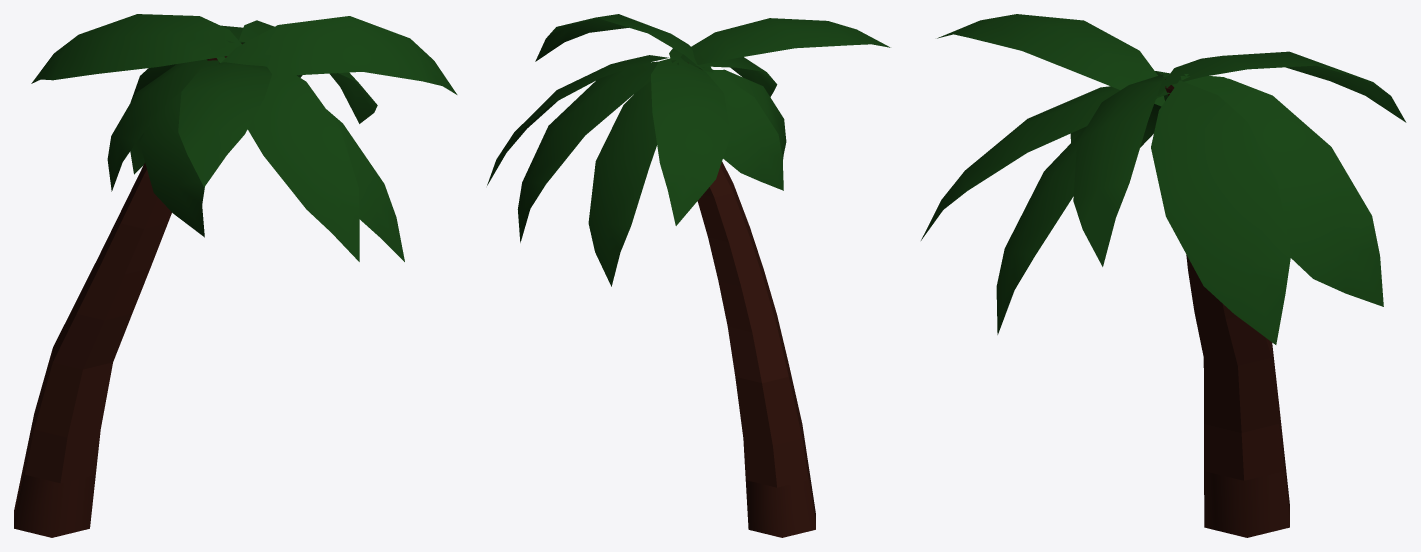
Rendered from palmera.FBX.
3 views of the same model, side by side, from view 1: azimuth 30°, elevation 25°; view 2: azimuth 150°, elevation 25°; view 3: azimuth 270°, elevation 25° (orthographic). The views are drawn at different scales.
Visible parts, largest first — view 1: Cylinder001, Plane006, Plane008, Plane009, Plane005, Plane007, Plane004, Plane003, Plane001, Plane002; view 2: Cylinder001, Plane009, Plane002, Plane010, Plane005, Plane004, Plane008, Plane001, Plane007, Plane006; view 3: Plane001, Cylinder001, Plane010, Plane008, Plane005, Plane003, Plane006, Plane009.
Part boxes in pixels (bbox=[...]): Cylinder001: bbox=[14, 43, 242, 537]; Plane006: bbox=[247, 75, 359, 261]; Plane008: bbox=[221, 16, 457, 94]; Plane009: bbox=[31, 14, 241, 83]; Plane005: bbox=[178, 62, 271, 187]; Plane007: bbox=[139, 91, 204, 237]; Plane004: bbox=[107, 59, 219, 191]; Plane003: bbox=[210, 48, 404, 261]; Plane001: bbox=[239, 20, 377, 123]; Plane002: bbox=[130, 64, 176, 174]; Cylinder001: bbox=[688, 63, 815, 537]; Plane009: bbox=[651, 57, 730, 225]; Plane002: bbox=[588, 62, 678, 286]; Plane010: bbox=[517, 60, 675, 242]; Plane005: bbox=[680, 18, 890, 65]; Plane004: bbox=[704, 71, 783, 190]; Plane008: bbox=[535, 14, 713, 72]; Plane001: bbox=[487, 55, 668, 185]; Plane007: bbox=[712, 69, 786, 160]; Plane006: bbox=[669, 48, 777, 96]; Plane001: bbox=[1151, 80, 1290, 344]; Cylinder001: bbox=[1165, 79, 1289, 537]; Plane010: bbox=[1180, 76, 1383, 306]; Plane008: bbox=[1073, 74, 1163, 266]; Plane005: bbox=[937, 14, 1164, 106]; Plane003: bbox=[996, 70, 1185, 334]; Plane006: bbox=[921, 86, 1170, 240]; Plane009: bbox=[1160, 51, 1406, 122].
Bounding box in the file's own units: 45.85 × 54.89 × 44.87.
